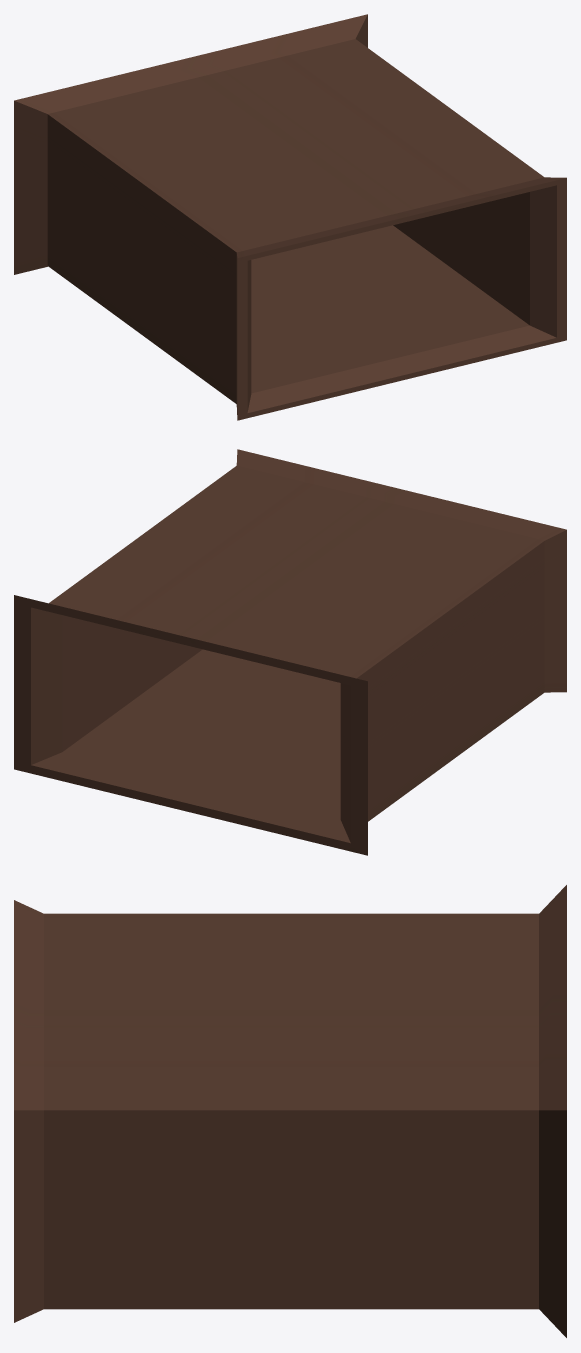
Rendered from cavetunnel.gltf.
3 views of the same model, one above another, from view 1: azimuth 30°, elevation 25°; view 2: azimuth 150°, elevation 25°; view 3: azimuth 270°, elevation 25° (orthographic). The views are drawn at different scales.
Visible parts, largest first — view 1: Plane; view 2: Plane; view 3: Plane.
Boxes of the visible parts, bbox=[...] form: Plane: bbox=[14, 14, 566, 420]; Plane: bbox=[14, 449, 566, 855]; Plane: bbox=[14, 885, 566, 1337].
Bounding box in the file's own units: 67.95 × 32.02 × 70.28.
1 material, 1 textured.
